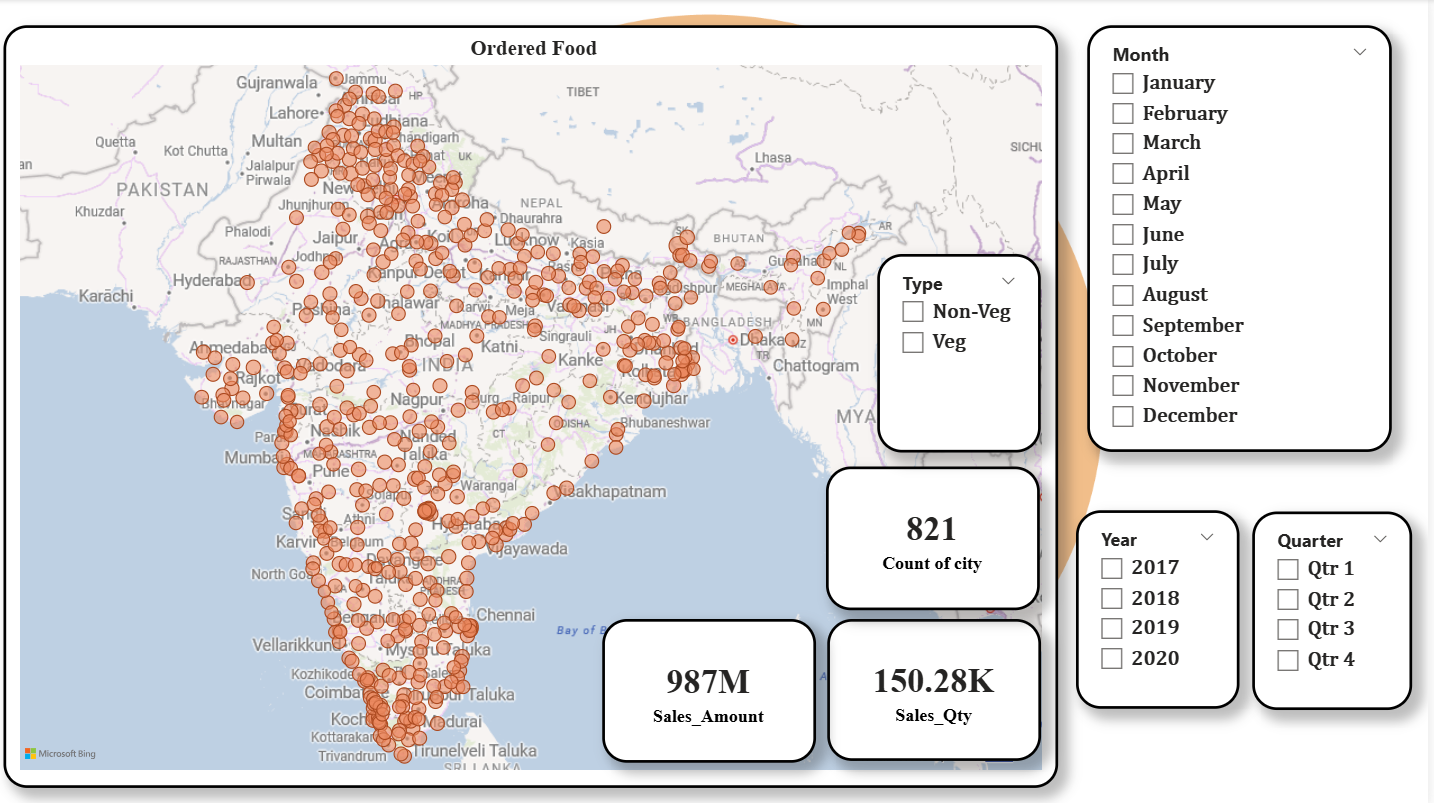

Layout of this report page (visuals, bound fields, positions):
{"tool":"powerbi","page":{"name":"PAGE 6","canvas":[1280,720],"ordinal":7},"visuals":[{"type":"map","title":"Ordered Food","fields":{"Category":["restaurant.city"],"Size":["Avg(orders.sales_qty)"]},"box":[10.9,23.1,939.5,678.8],"z":0},{"type":"slicer","fields":{"Values":["orders.order_date.Variation.Date Hierarchy.Month"]},"box":[976.2,23.1,271.5,380.1],"z":1000},{"type":"slicer","fields":{"Values":["orders.order_date.Variation.Date Hierarchy.Year"]},"box":[966.3,455.8,145.3,176.7],"z":2000},{"type":"slicer","fields":{"Values":["orders.order_date.Variation.Date Hierarchy.Quarter"]},"box":[1122.8,456.2,142.6,176.5],"z":3000},{"type":"card","fields":{"Values":["CountNonNull(orders.sales_qty)"]},"box":[744.2,552.3,190.7,126.7],"z":4000},{"type":"card","fields":{"Values":["Sum(orders.sales_amount)"]},"box":[544.4,552.6,190.1,127.6],"z":5000},{"type":"card","fields":{"Values":["Count(restaurant.city)"]},"box":[744,416.8,190.1,127.6],"z":6000}]}

Visuals, with their boxes in screenshot pixels (x1, y1, x2, y2), scaled from the page's 1280x720 canvas onto the 1434x803 screenshot:
"Ordered Food" map: rect(12, 26, 1065, 783)
slicer - orders.order_date.Variation.Date Hierarchy.Month: rect(1094, 26, 1398, 450)
slicer - orders.order_date.Variation.Date Hierarchy.Year: rect(1083, 508, 1245, 705)
slicer - orders.order_date.Variation.Date Hierarchy.Quarter: rect(1258, 509, 1418, 706)
card - CountNonNull(orders.sales_qty): rect(834, 616, 1047, 757)
card - Sum(orders.sales_amount): rect(610, 616, 823, 759)
card - Count(restaurant.city): rect(834, 465, 1046, 607)
